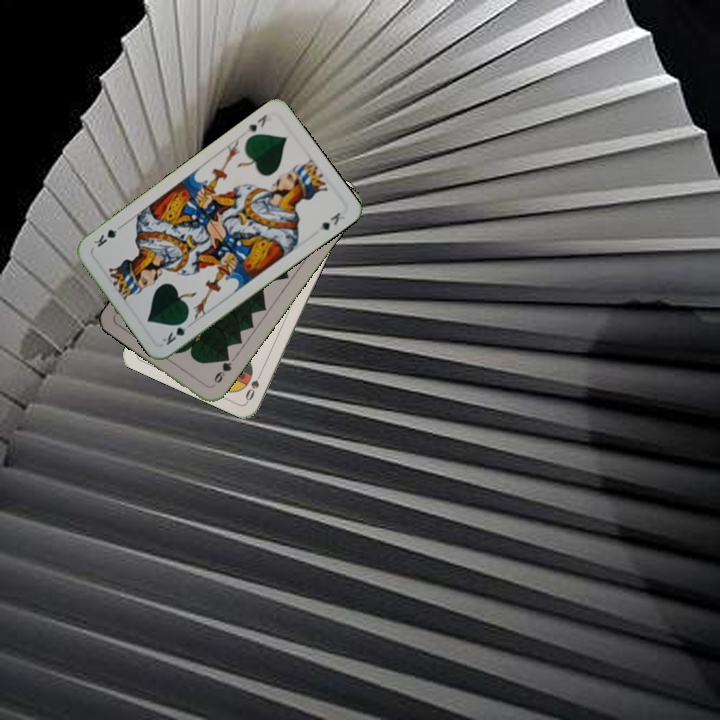G9: (210, 351, 235, 386)
GK: (158, 315, 190, 348), (243, 110, 270, 135)
SO: (241, 365, 265, 404)
